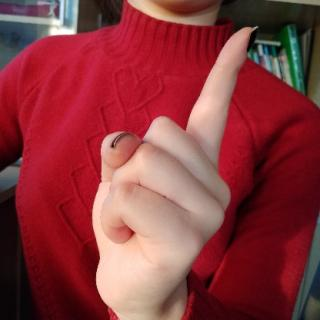RAA: (82, 19, 262, 310)
